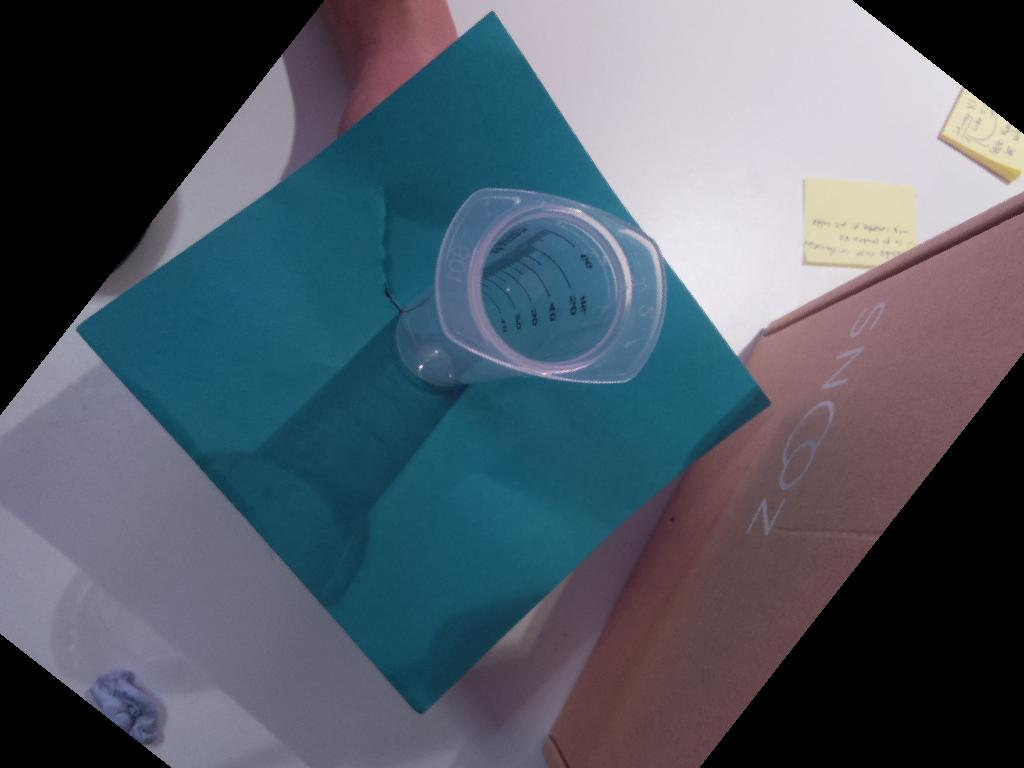clean: (430, 184, 670, 388)
